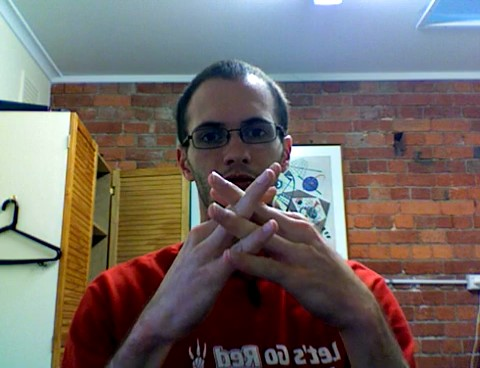W: (139, 151, 392, 339)
